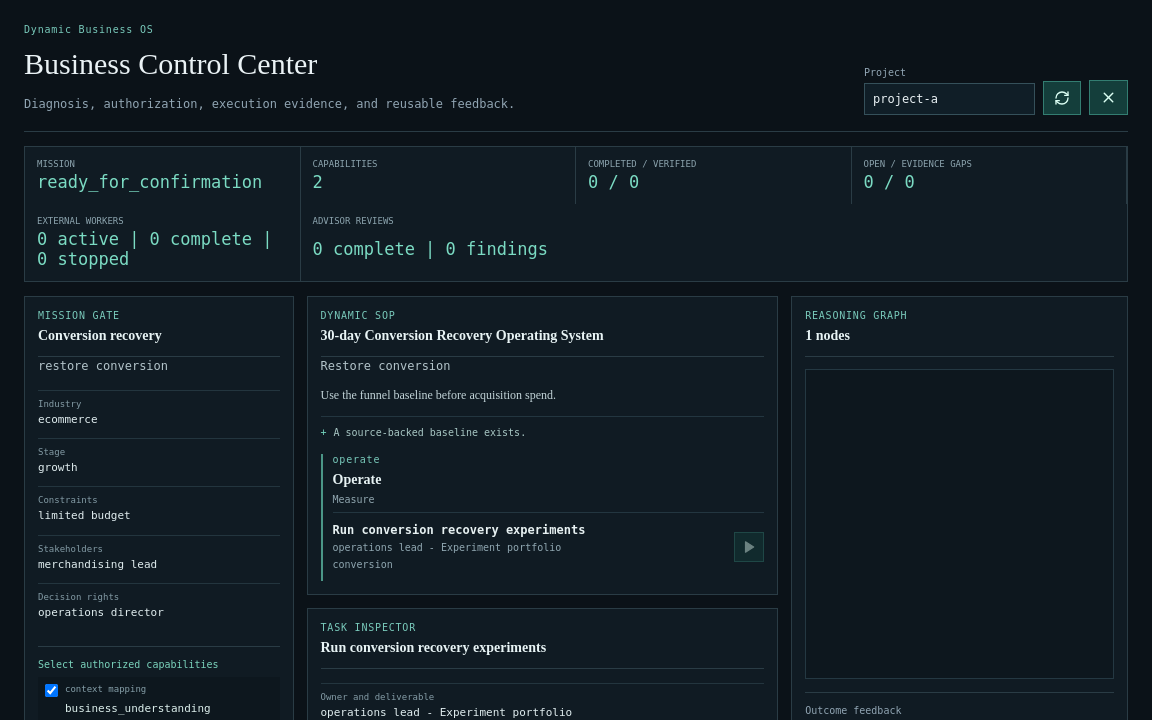
Test: BusinessControlCenter › clears Mission and Intake state immediately when the project scope changes
Replace the text in the field named "DBOS project ID" with "project-b". click: (950, 99)
box: x1=864 y1=83 x2=1035 y2=115
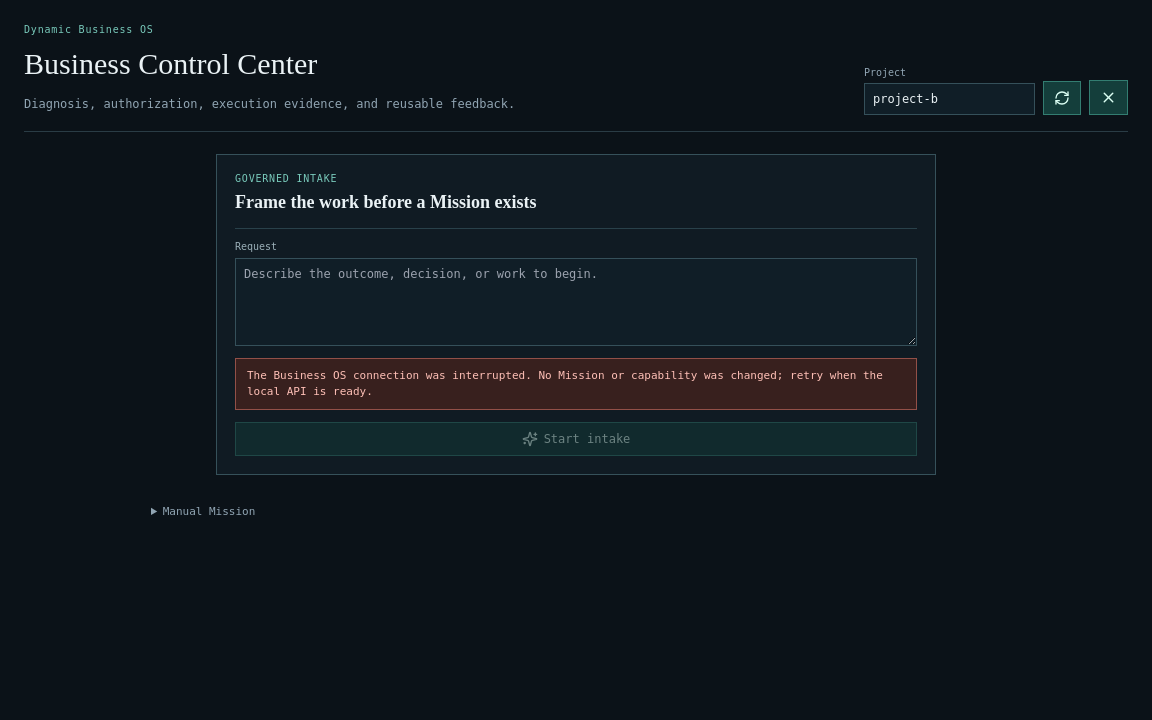
Now the text "30-day Conversion Recovery Operating System" is gone
Now the text "Conversion recovery" is gone
